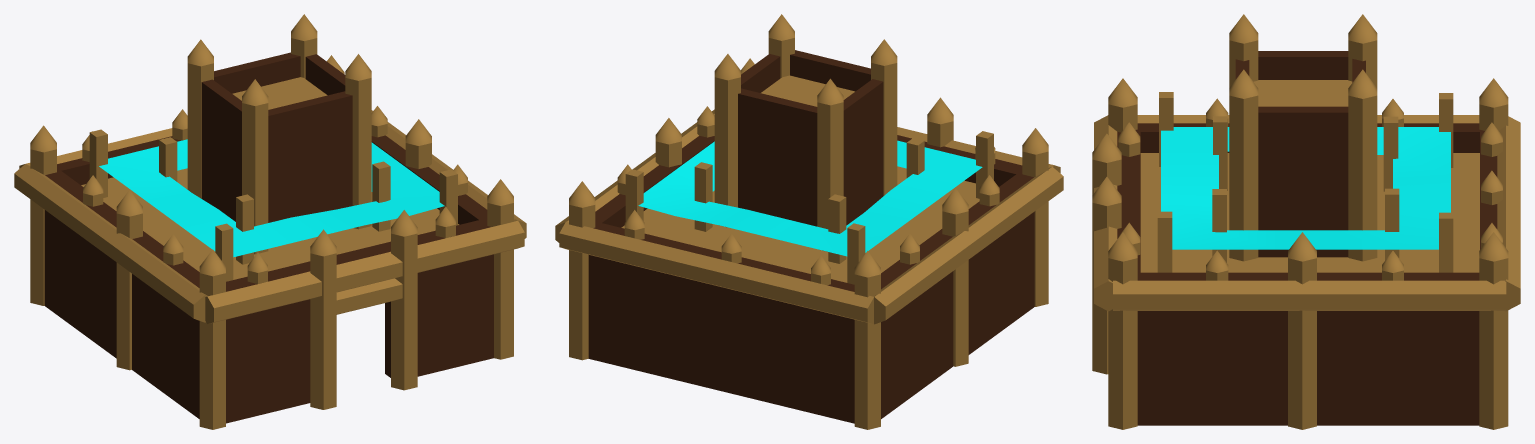
File: Barracks.fbx
3 renders of one model, left to right at view 1: azimuth 30°, elevation 25°; view 2: azimuth 150°, elevation 25°; view 3: azimuth 270°, elevation 25°, orthographic. The views are drawn at different scales.
Parts seen in each view (by area): view 1: Barracks; view 2: Barracks; view 3: Barracks.
Boxes of the visible parts, x1=… form: Barracks: x1=14, y1=14, x2=526, y2=429; Barracks: x1=555, y1=14, x2=1063, y2=429; Barracks: x1=1092, y1=14, x2=1520, y2=429.
Bounding box in the file's own units: 12.97 × 10.43 × 13.18.
